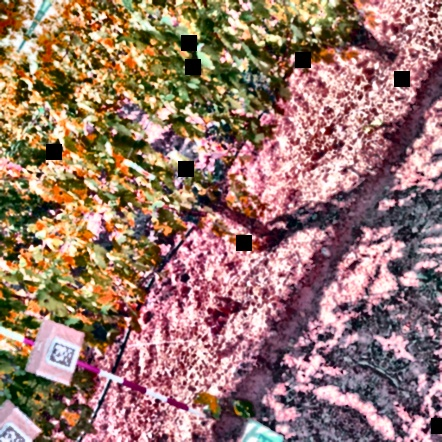QR: (45, 339, 78, 371), (251, 435, 278, 442)
